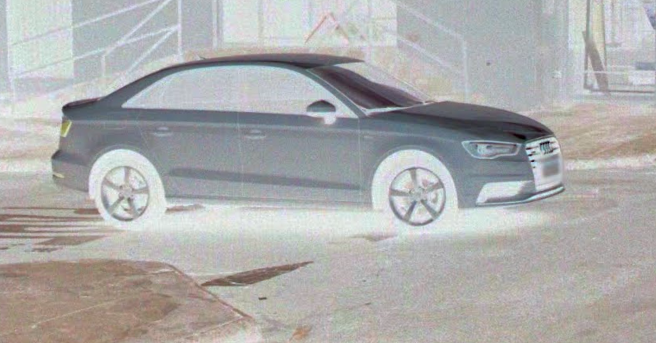car: (46, 35, 571, 244)
